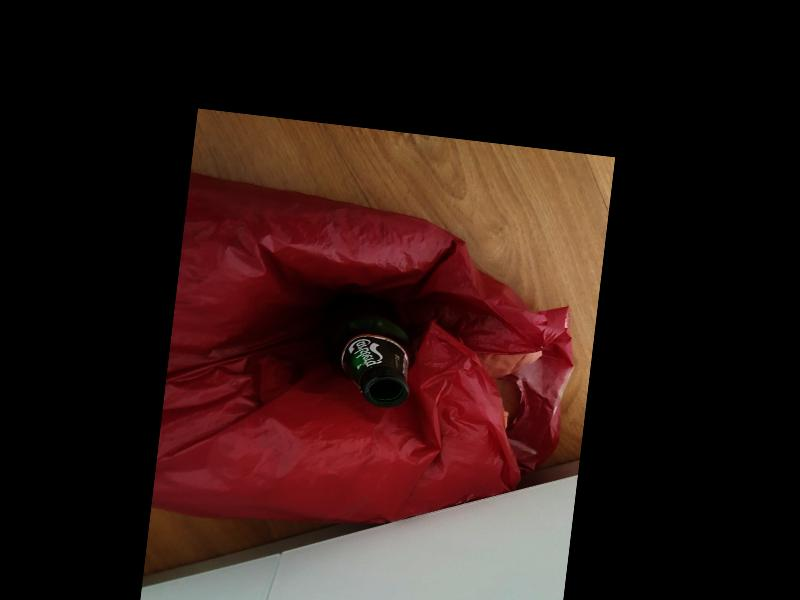Beer: (318, 289, 420, 408)
